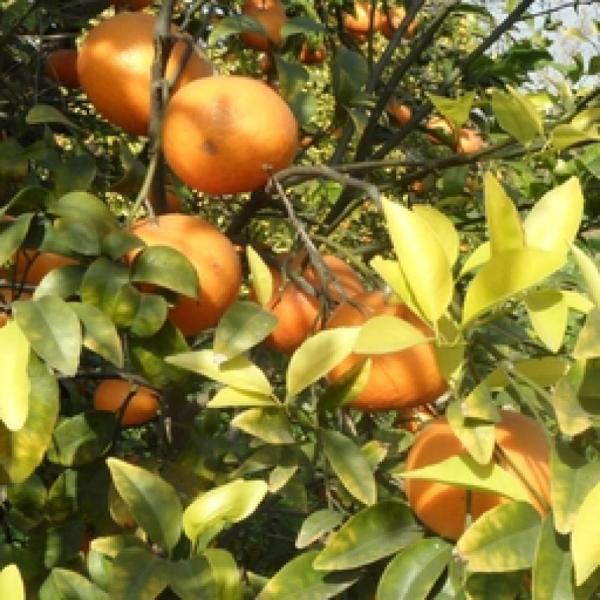Canker: (157, 77, 308, 202)
Sana: (407, 412, 556, 552), (65, 12, 216, 137), (113, 207, 247, 341), (324, 289, 452, 402), (244, 269, 323, 357), (275, 246, 377, 309), (89, 371, 167, 430)
